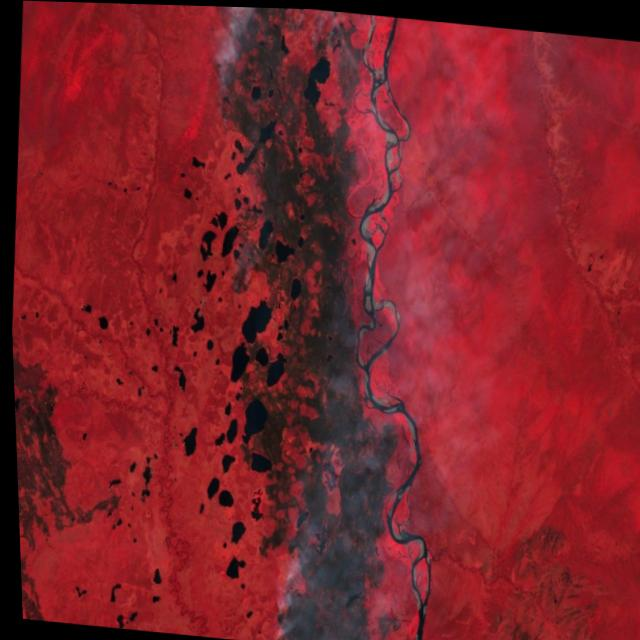fire: (206, 5, 261, 137), (262, 541, 299, 640), (220, 240, 256, 298), (311, 12, 351, 63), (281, 7, 306, 36)
